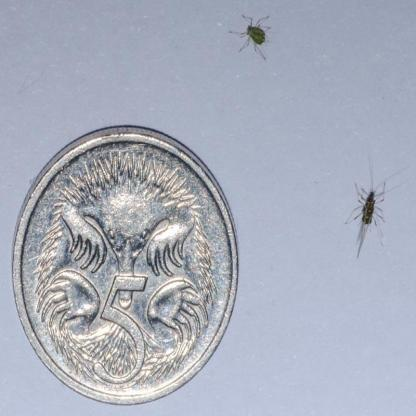aphid: (349, 164, 390, 241), (232, 6, 274, 62)
